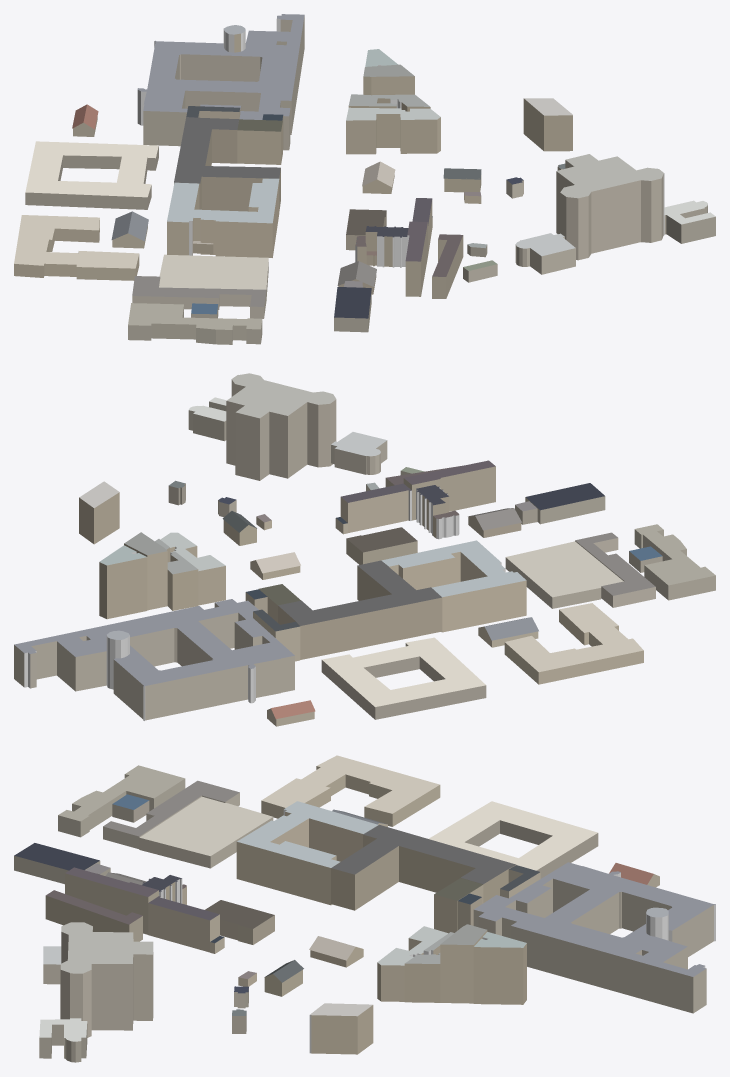
The picture shows the model from 3 angles, top to bottom: view 1: azimuth 30°, elevation 25°; view 2: azimuth 150°, elevation 25°; view 3: azimuth 270°, elevation 25°; orthographic projection. The views are drawn at different scales.
Visible parts, largest first — view 1: tuile; view 2: tuile; view 3: tuile.
Part boxes in pixels (x1=…): tuile: x1=14, y1=14, x2=715, y2=344; tuile: x1=14, y1=373, x2=715, y2=726; tuile: x1=14, y1=755, x2=715, y2=1062.
Size of the model in its own units: 289 by 34.43 by 287.
